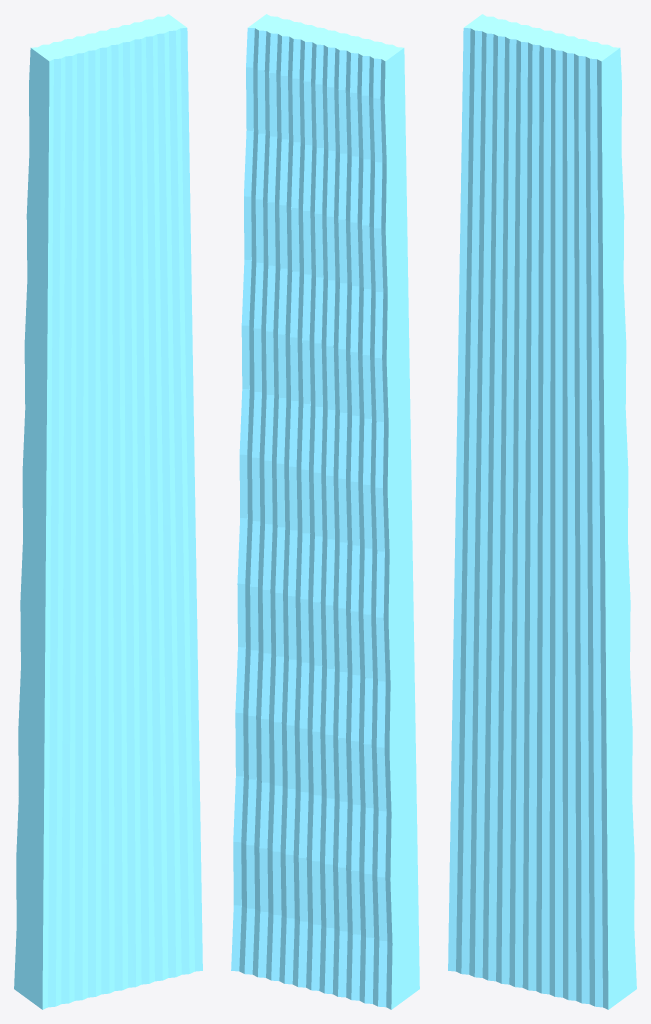
File: h15_great_frozen_falls.fbx
3 renders of one model, left to right at view 1: azimuth 30°, elevation 25°; view 2: azimuth 150°, elevation 25°; view 3: azimuth 330°, elevation 25°, orthographic.
Parts seen in each view (by area): view 1: h15_great_frozen_falls__Ice; view 2: h15_great_frozen_falls__Ice; view 3: h15_great_frozen_falls__Ice.
Part boxes in pixels (x1=…): h15_great_frozen_falls__Ice: x1=14, y1=14, x2=202, y2=1009; h15_great_frozen_falls__Ice: x1=231, y1=14, x2=419, y2=1009; h15_great_frozen_falls__Ice: x1=448, y1=14, x2=636, y2=1009.
Bounding box in the file's own units: 26 × 146 × 8.
